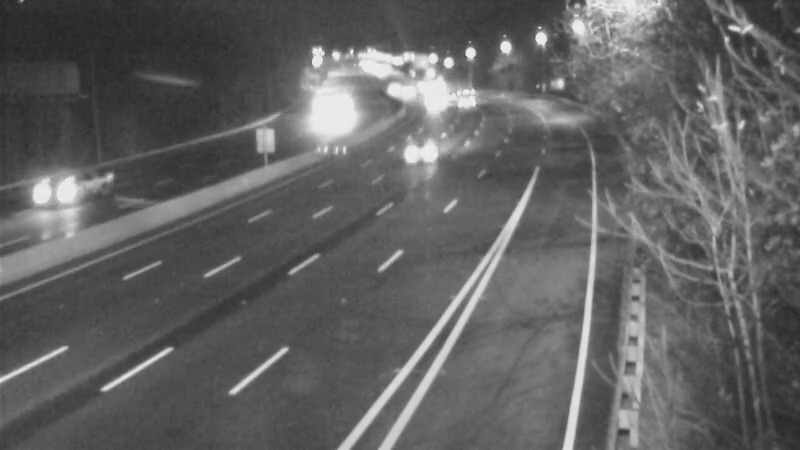vehicle: (380, 114, 460, 194), (14, 151, 94, 231), (411, 59, 461, 109), (379, 70, 429, 120), (440, 71, 490, 121), (412, 71, 462, 121)
